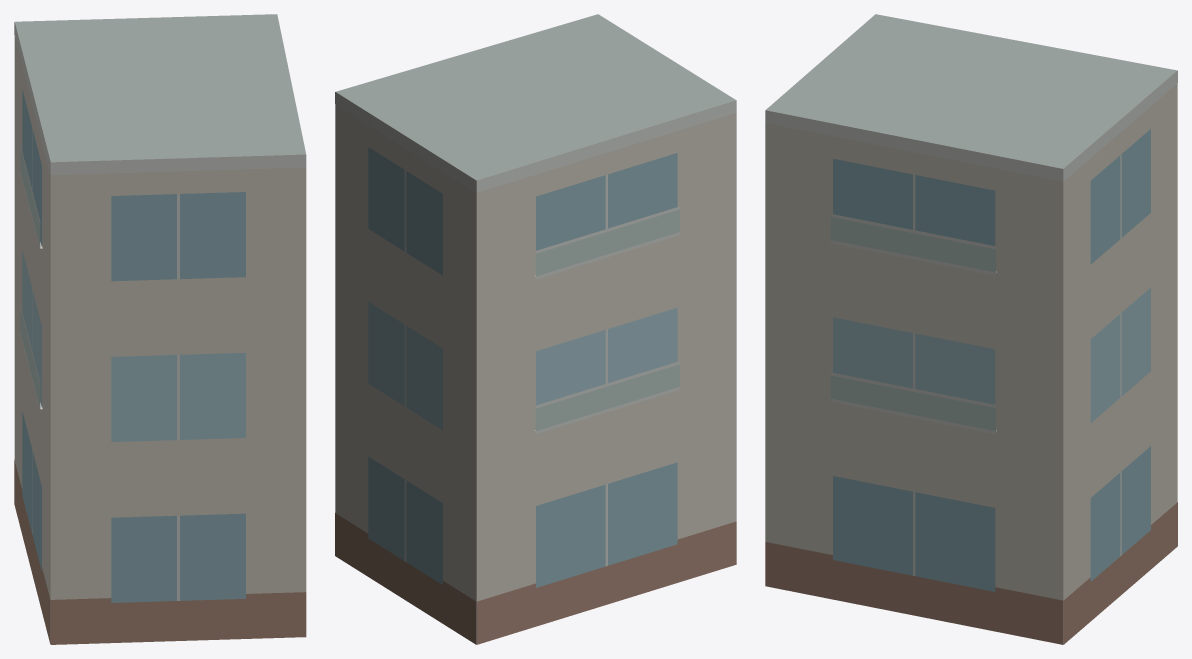
The model's file is survey-upis-32561419.glb.
3 renders of one model, left to right at view 1: azimuth 30°, elevation 25°; view 2: azimuth 150°, elevation 25°; view 3: azimuth 270°, elevation 25°, orthographic. The views are drawn at different scales.
Parts seen in each view (by area): view 1: survey-upis-32561419.tmp; view 2: survey-upis-32561419.tmp; view 3: survey-upis-32561419.tmp.
Part boxes in pixels (box(x1,y1,x2,y2)): survey-upis-32561419.tmp: box(14, 14, 306, 644); survey-upis-32561419.tmp: box(335, 14, 736, 644); survey-upis-32561419.tmp: box(765, 14, 1177, 644).
Size of the model in its own units: 6.4 by 9.15 by 7.19.
